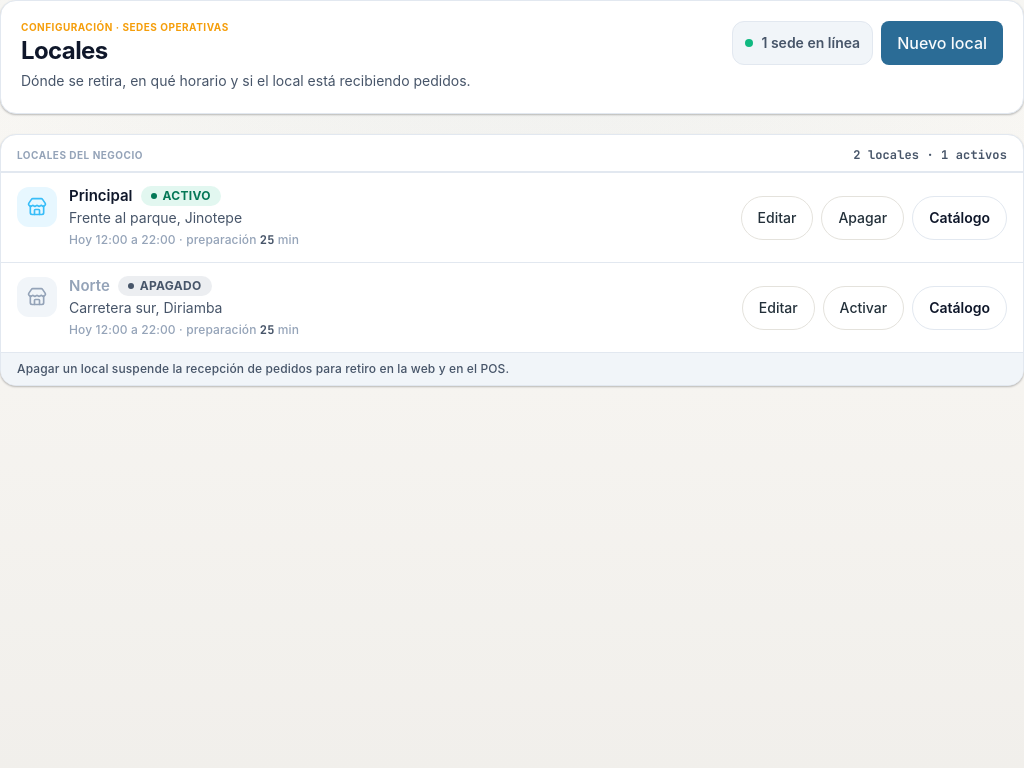
it: AdminLocationsPage › abre el formulario con el punto de venta tal como está el local
The width and height of the screenshot is (1024, 768).
Click the button with aria-label "Editar local Norte".
click(778, 308)  # box [742,286,815,330]
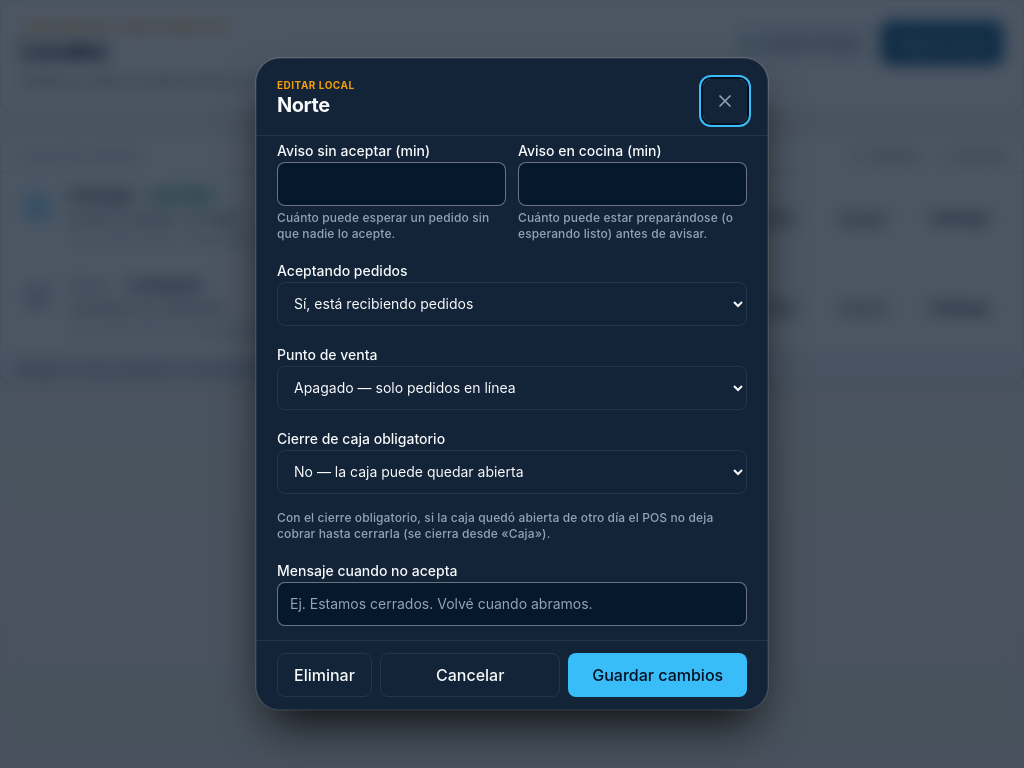
expect the dropdown labelled "Punto de venta" shows "Apagado — solo pedidos en línea": met, box [277,366,747,410]
